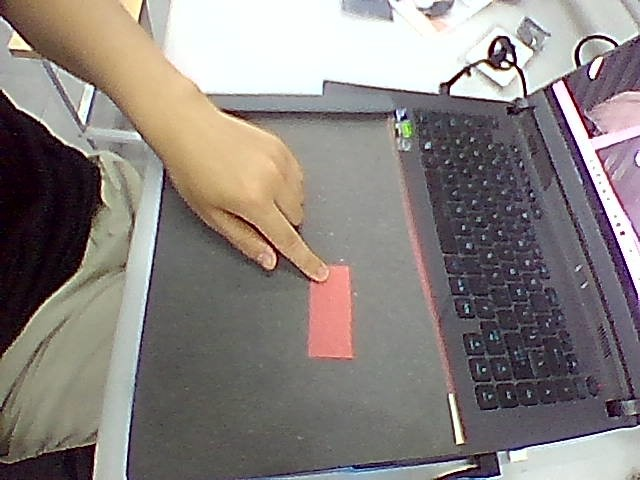card: (308, 266, 354, 359)
